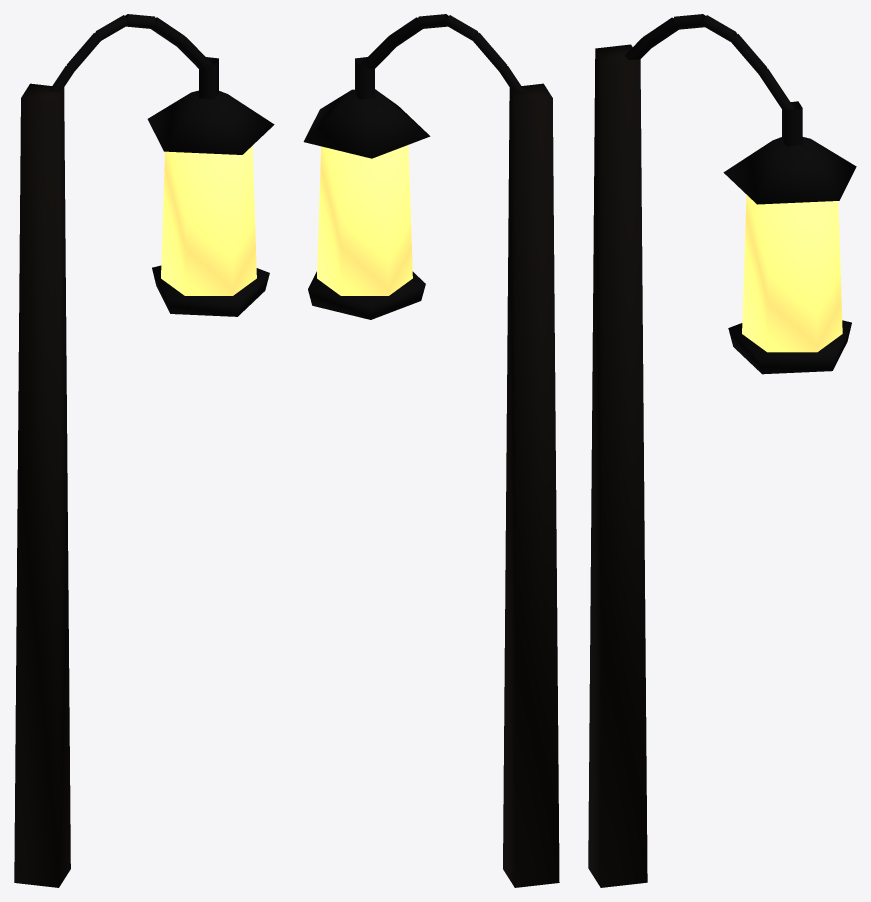
Rendered from path-lantern-far.glb.
3 renders of one model, left to right at view 1: azimuth 30°, elevation 25°; view 2: azimuth 150°, elevation 25°; view 3: azimuth 330°, elevation 25°, orthographic. The views are drawn at different scales.
Visible parts, largest first — view 1: lantern-post, lantern-glow, lantern-iron; view 2: lantern-post, lantern-glow, lantern-iron; view 3: lantern-post, lantern-glow, lantern-iron.
Boxes of the visible parts, x1=… form: lantern-post: x1=14, y1=83, x2=70, y2=887; lantern-glow: x1=161, y1=146, x2=256, y2=295; lantern-iron: x1=49, y1=14, x2=274, y2=316; lantern-post: x1=503, y1=83, x2=559, y2=887; lantern-glow: x1=317, y1=145, x2=412, y2=295; lantern-iron: x1=303, y1=14, x2=524, y2=319; lantern-post: x1=588, y1=44, x2=647, y2=887; lantern-glow: x1=742, y1=195, x2=842, y2=352; lantern-iron: x1=624, y1=14, x2=856, y2=374.
Bounding box in the file's own units: 0.3006 × 0.9667 × 0.1266.
